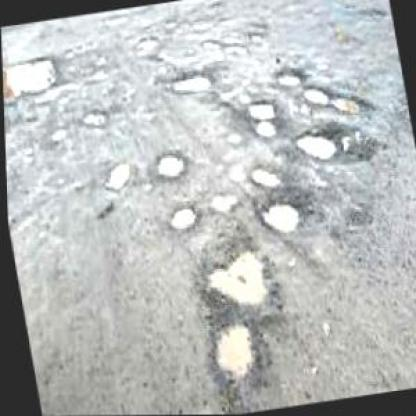pothole: (195, 241, 272, 311), (204, 316, 259, 381), (1, 51, 61, 103), (255, 193, 307, 237), (293, 124, 337, 162), (165, 66, 215, 96), (327, 88, 373, 120), (245, 160, 283, 192), (101, 158, 133, 191), (154, 148, 186, 179), (165, 204, 198, 230), (207, 189, 238, 215), (273, 61, 304, 87), (246, 99, 278, 121), (301, 82, 329, 107), (79, 106, 108, 128), (252, 118, 279, 139)
